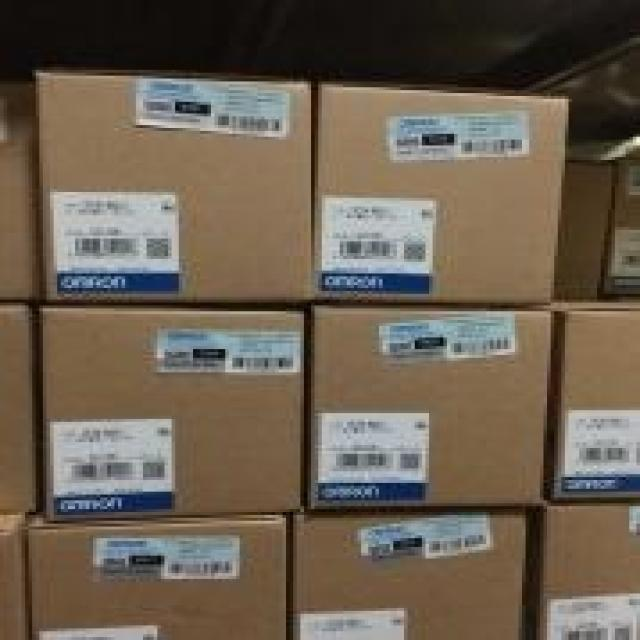box: (36, 70, 311, 303), (39, 303, 304, 521), (311, 84, 568, 305), (307, 305, 554, 509), (21, 512, 286, 640), (290, 509, 529, 640), (543, 297, 640, 500), (536, 500, 640, 640), (0, 81, 39, 303), (558, 160, 619, 300), (0, 303, 36, 515), (601, 157, 640, 297), (0, 515, 29, 640)
